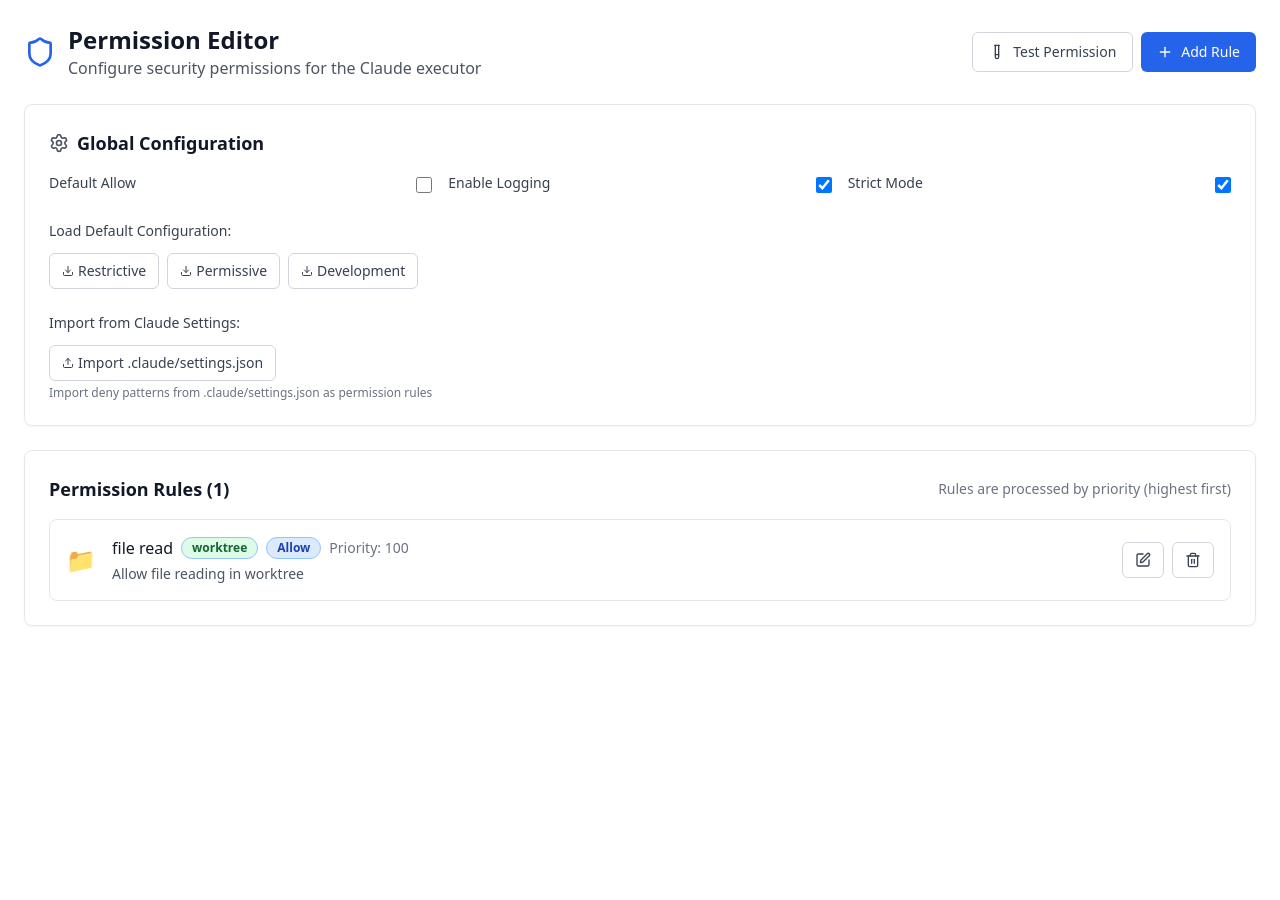
Test: PermissionEditor › opens create form when add rule is clicked
The image size is (1280, 900).
Click the button "Add Rule" at (1199, 52), box [1141,32,1256,72]
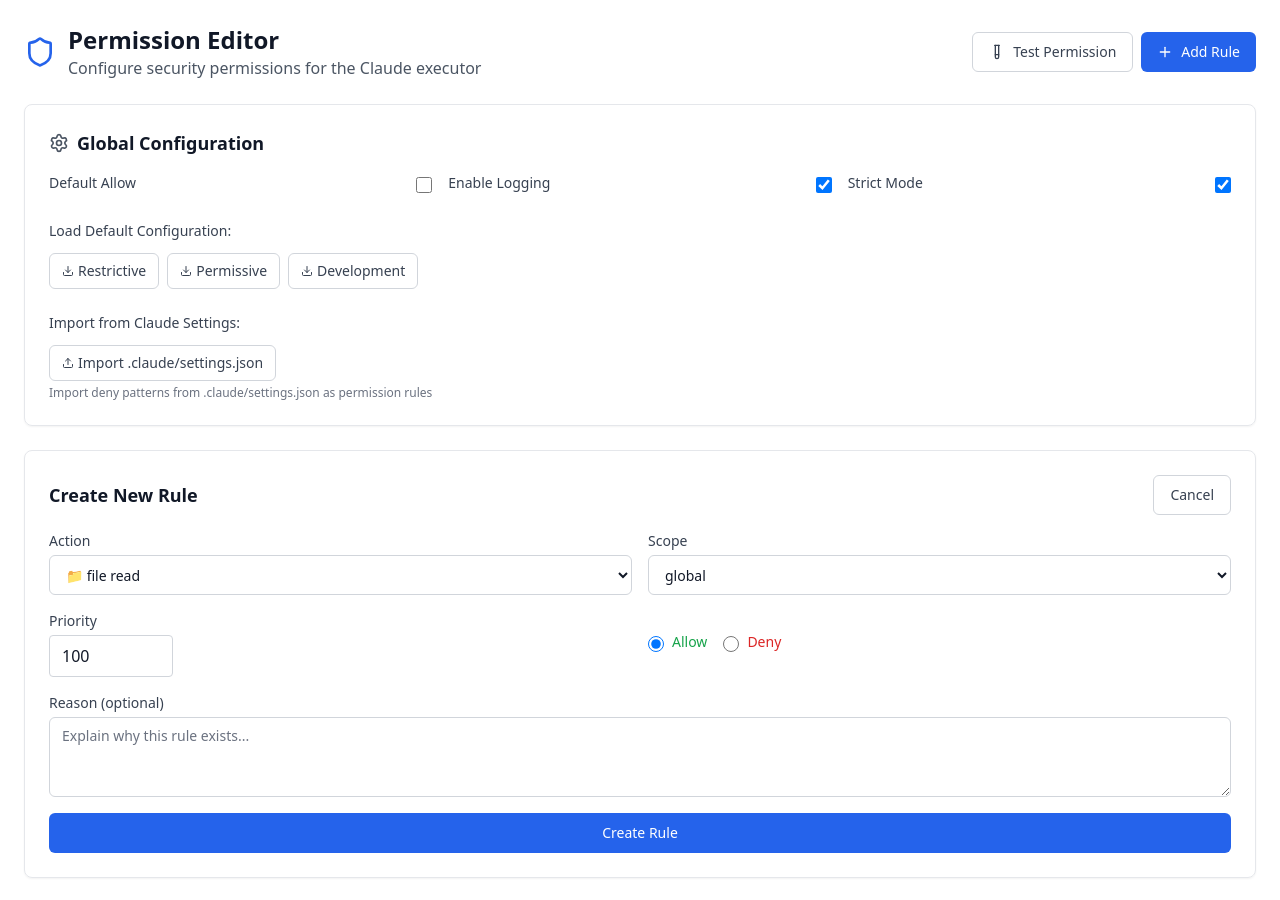
Now the heading "Create New Rule" is shown, box [49,481,198,509]
Now the dropdown labelled "Action" is shown, box [49,555,632,595]
Now the dropdown labelled "Scope" is shown, box [648,555,1231,595]
